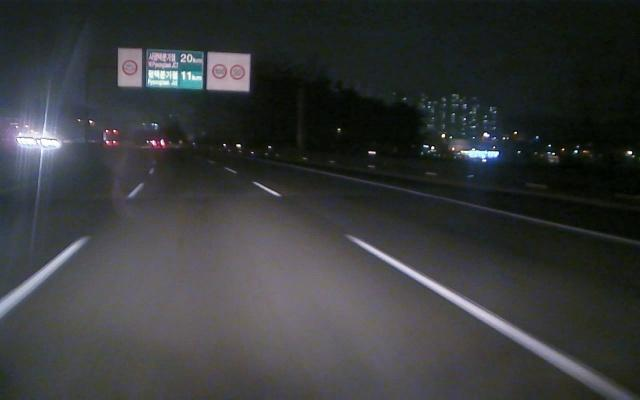lane: (257, 181, 629, 396), (352, 175, 639, 249), (1, 184, 143, 318)
